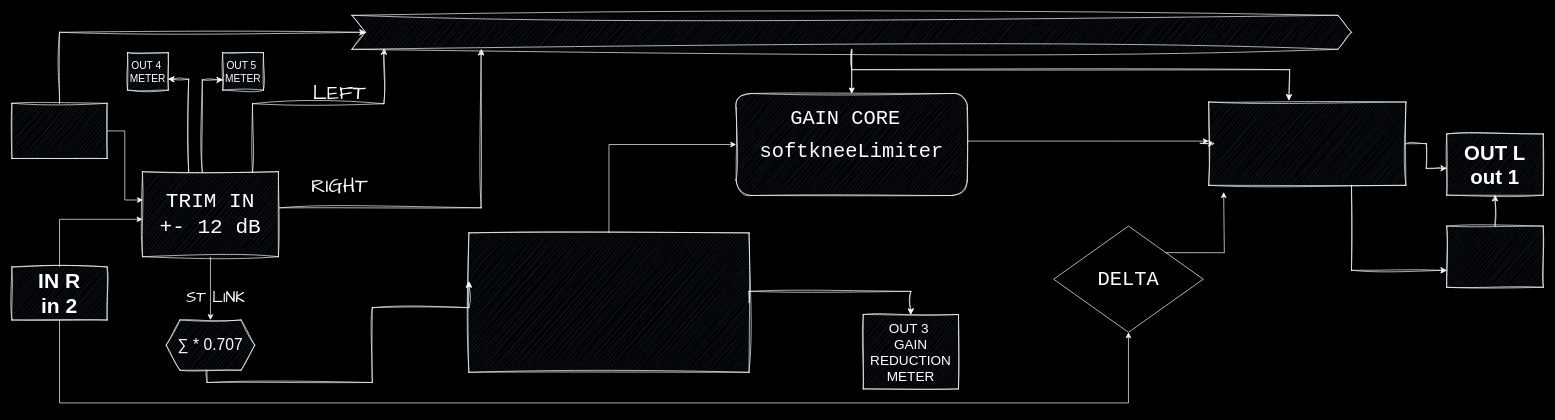
Some shapes in this 1555 by 420 pixel diagram are drawn without their labels. Each missing label, with the centre of its shape:
DETECTOR + GAIN CALC Peak - Sliding RMS ATK REL - AUTOREL: the point at 608,302
IN L in 1: the point at 59,131
LOOKAHEAD 0 - 10 ms: the point at 851,32
OUT R out 2: the point at 1494,256
OUTPUT BYPASS: the point at 1307,143
